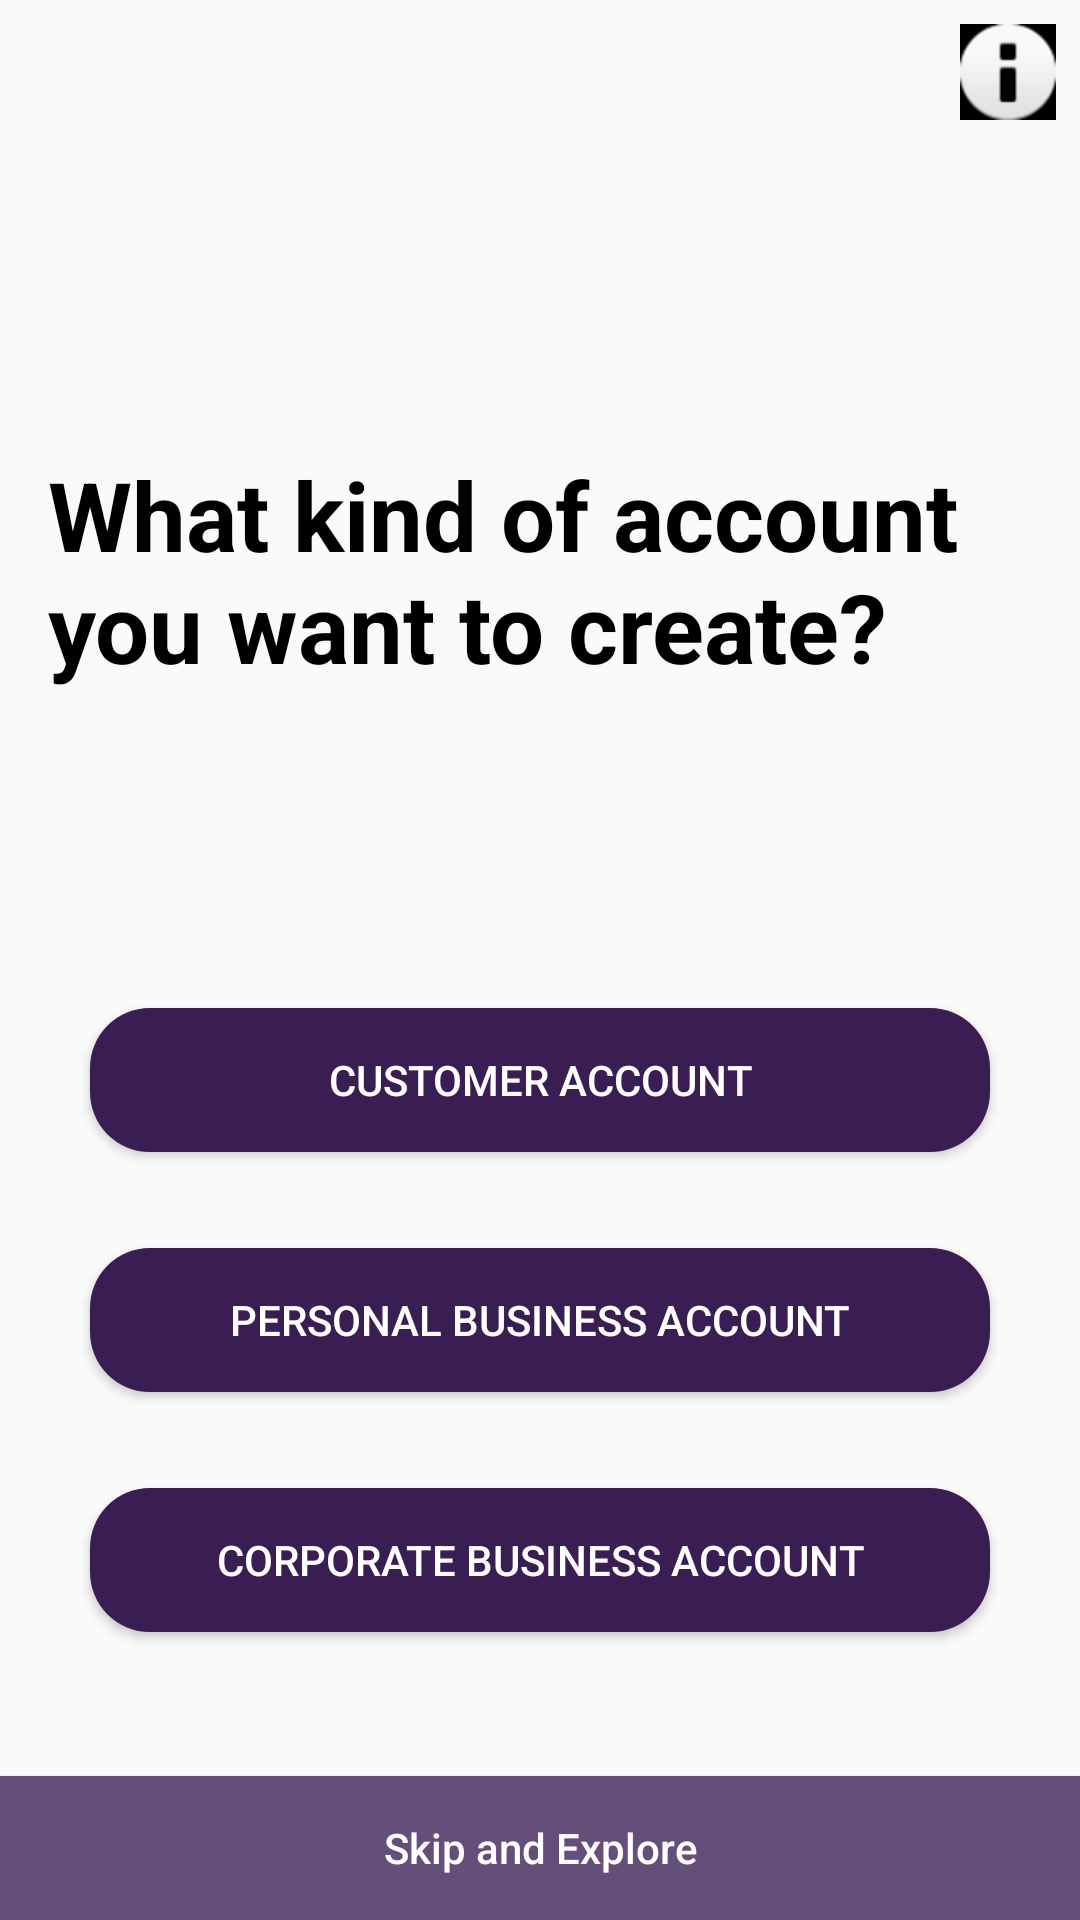

Where icons sit on this 1080*1920 app screen, as (x1, y1, x2, y2):
info: (960, 24, 1056, 120)
